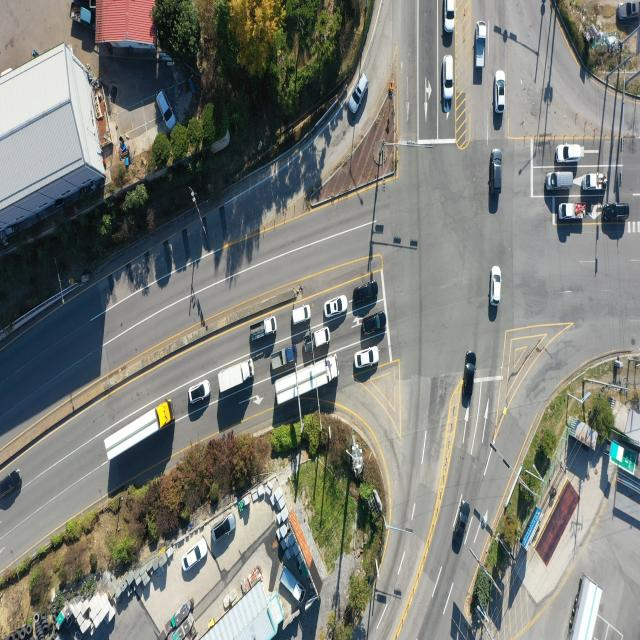car: (181, 535, 209, 574), (450, 503, 469, 554), (155, 92, 175, 133), (350, 72, 369, 113), (212, 517, 235, 546), (0, 472, 22, 502), (361, 314, 386, 338), (187, 380, 210, 406), (464, 353, 477, 399), (548, 174, 577, 194), (352, 282, 378, 304), (354, 347, 379, 369), (604, 202, 630, 222), (444, 55, 455, 100), (324, 297, 346, 319), (556, 144, 581, 163), (492, 150, 502, 196), (496, 71, 506, 115), (290, 305, 310, 326), (618, 1, 640, 20), (491, 266, 501, 306), (446, 0, 456, 33)
medium_truck: (104, 399, 172, 464), (271, 352, 338, 406), (567, 578, 602, 640), (217, 358, 252, 394)
small_truck: (281, 568, 304, 607), (270, 344, 298, 371), (252, 318, 279, 345), (70, 0, 92, 28), (308, 328, 333, 352), (474, 23, 486, 70), (559, 202, 586, 222), (583, 172, 607, 192)
